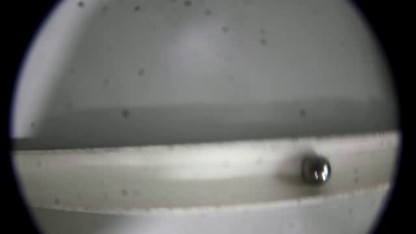gangzhu: (299, 153, 332, 187)
